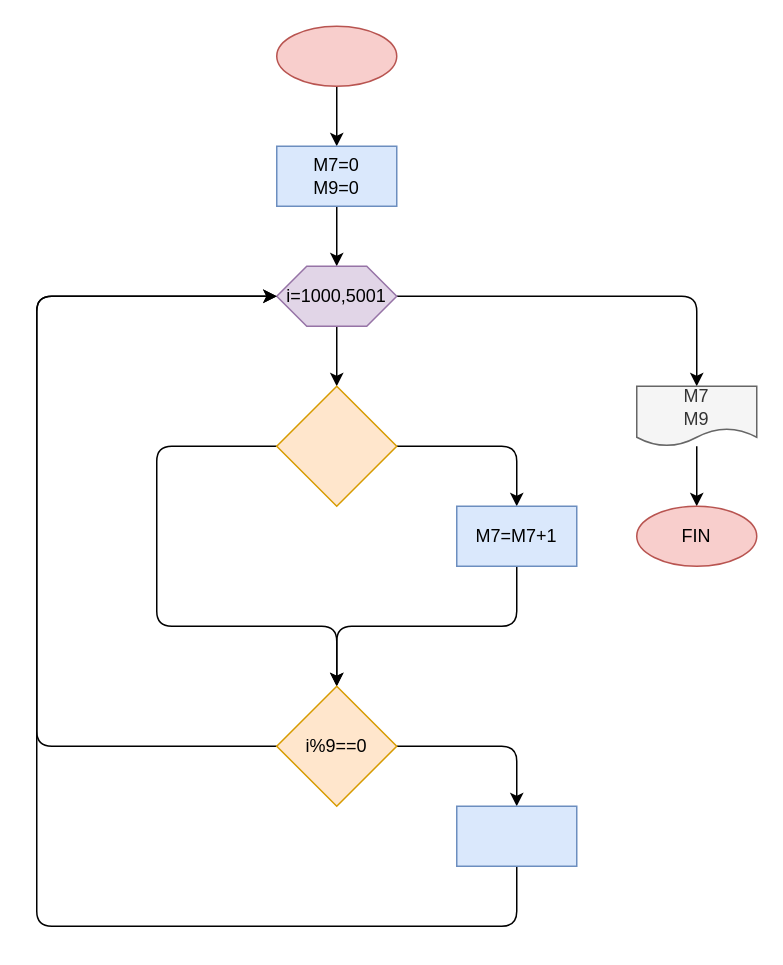
This 783x965 diagram has some shape labels left out. The shapes that lost their labels are listed below. From the top down, each one's box as (x1, y1, x2, y2) in pixels, then its label:
(275, 25, 397, 86): INICIO
(275, 385, 397, 506): i%7==0
(455, 805, 577, 866): M9=M9+1
